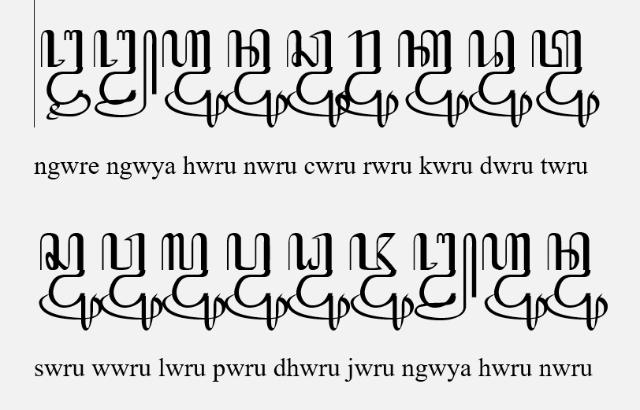cwru: (286, 29, 350, 127)
dhwru: (286, 234, 350, 332)
dwru: (468, 30, 532, 128)
hwru: (482, 232, 548, 332), (162, 30, 228, 128)
jwru: (350, 232, 414, 332)
kwru: (396, 30, 469, 126)
lwru: (161, 233, 225, 332)
ngwre: (40, 29, 90, 120)
ngwya: (92, 29, 158, 119), (412, 233, 478, 322)
nwru: (544, 232, 608, 332), (226, 29, 288, 127)
pwru: (225, 232, 288, 332)
rwru: (335, 30, 399, 128)
swru: (38, 233, 102, 331)
twru: (532, 28, 600, 128)
wwru: (99, 232, 163, 332)
